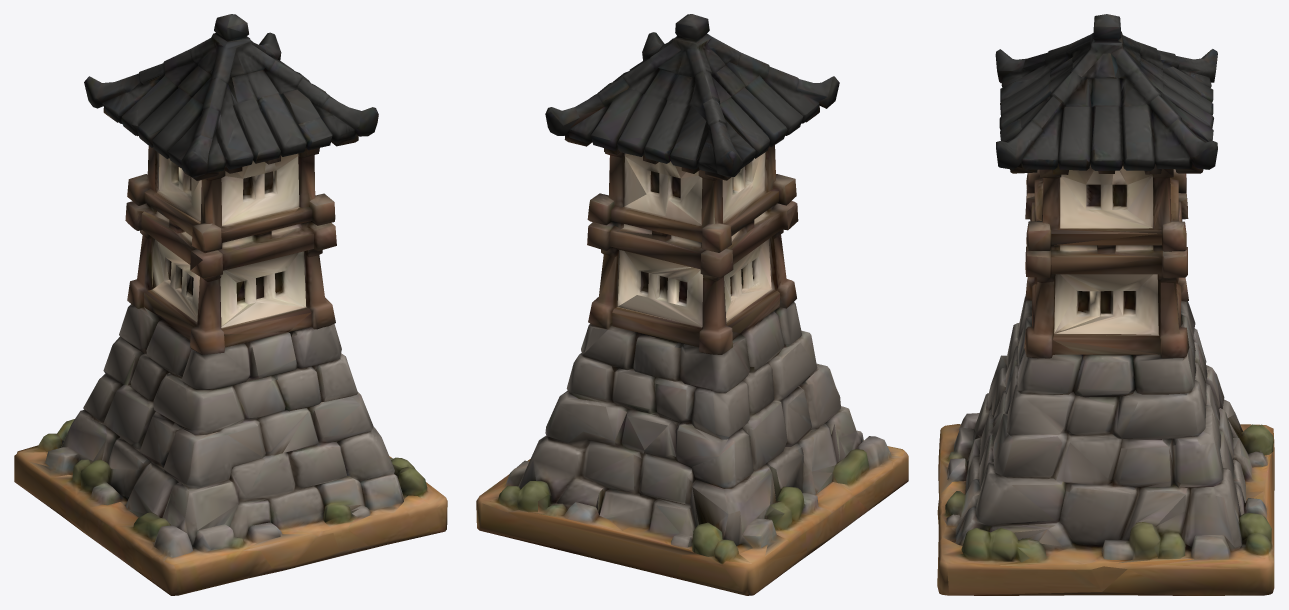
The model's file is tower_t3.glb.
The picture shows the model from 3 angles, left to right: view 1: azimuth 30°, elevation 25°; view 2: azimuth 150°, elevation 25°; view 3: azimuth 270°, elevation 25°; orthographic projection. The views are drawn at different scales.
Parts seen in each view (by area): view 1: tripo_node_c2119f7c-9039-471a-9370-a1d726d16002; view 2: tripo_node_c2119f7c-9039-471a-9370-a1d726d16002; view 3: tripo_node_c2119f7c-9039-471a-9370-a1d726d16002.
Boxes of the visible parts, x1,y1,x2,y2 form: tripo_node_c2119f7c-9039-471a-9370-a1d726d16002: [14, 14, 447, 595]; tripo_node_c2119f7c-9039-471a-9370-a1d726d16002: [476, 14, 908, 595]; tripo_node_c2119f7c-9039-471a-9370-a1d726d16002: [937, 14, 1274, 595].
Size of the model in its own units: 0.5883 by 0.9795 by 0.5856.
Materials: 1 (1 with a texture image).
